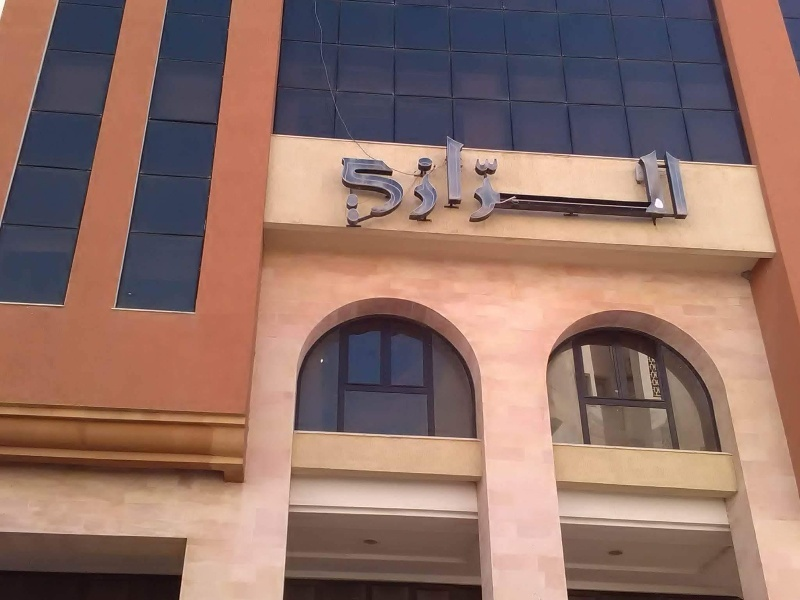text: (353, 131, 368, 229), (369, 131, 384, 229), (385, 131, 400, 229), (401, 131, 416, 229), (417, 131, 432, 229), (433, 131, 448, 229), (449, 131, 464, 229), (465, 131, 480, 229), (481, 131, 496, 229), (497, 131, 512, 229), (513, 131, 528, 229), (529, 131, 544, 229), (545, 131, 560, 229), (561, 131, 576, 229), (577, 131, 592, 229), (593, 131, 608, 229), (609, 131, 624, 229), (625, 131, 640, 229), (641, 131, 656, 229), (657, 131, 672, 229), (673, 131, 688, 229), (342, 131, 352, 229), (689, 131, 691, 229)
